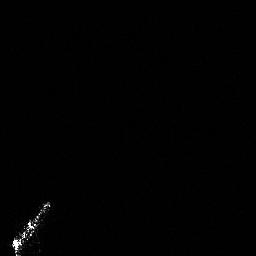ship: (8, 196, 53, 256)
